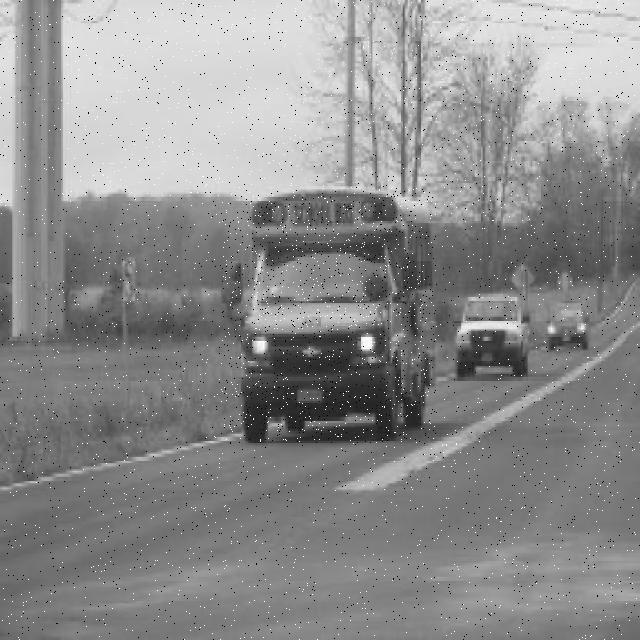Bus- Small: (222, 189, 437, 444)
